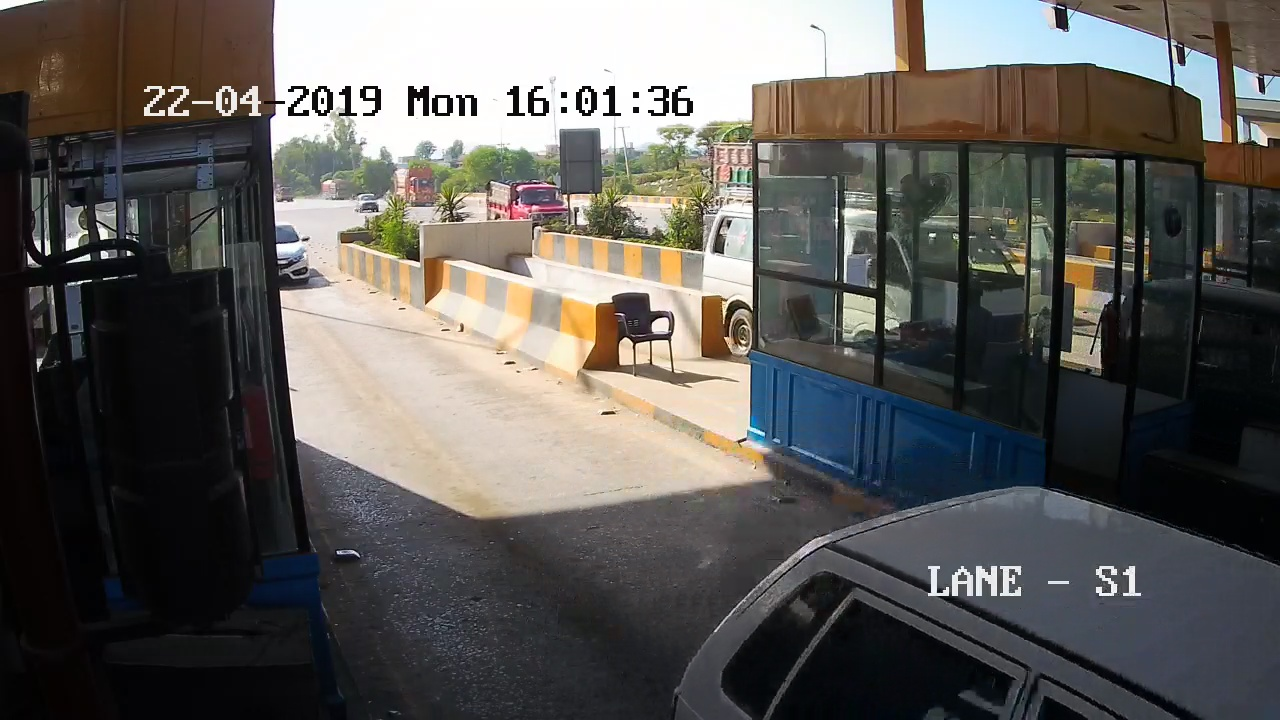car: (271, 217, 310, 298)
